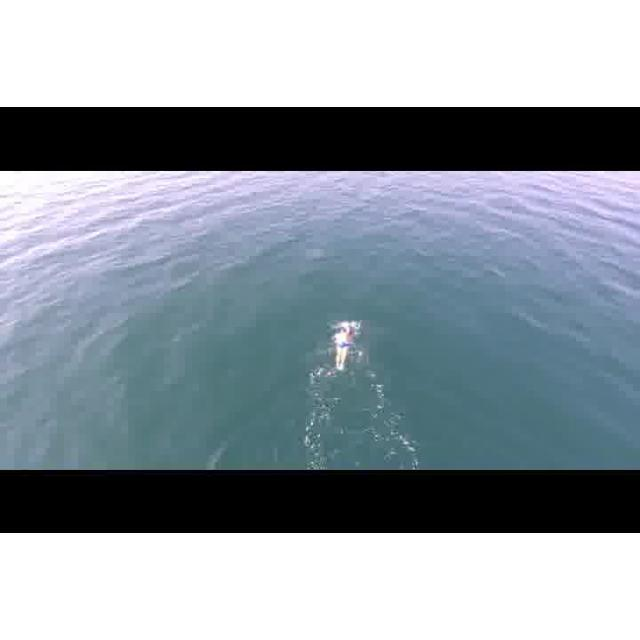human: (329, 317, 361, 370)
